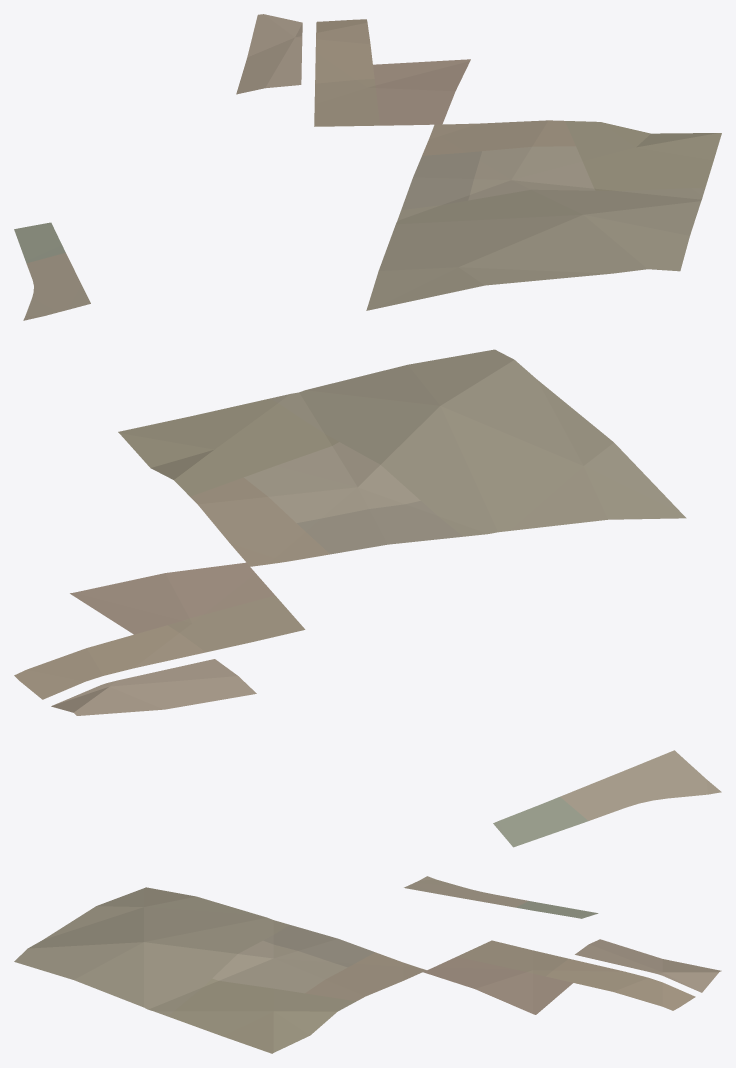
File: farm_-20_-30_soil.glb
3 views of the same model, one above another, from view 1: azimuth 30°, elevation 25°; view 2: azimuth 150°, elevation 25°; view 3: azimuth 270°, elevation 25° (orthographic). The views are drawn at different scales.
Visible parts, largest first — view 1: geometry_0; view 2: geometry_0; view 3: geometry_0.
Part boxes in pixels (x1,y1,x2,y2): geometry_0: (14,14,721,320); geometry_0: (14,349,721,847); geometry_0: (14,876,721,1053).
Size of the model in its own units: 393 by 75.57 by 437.
